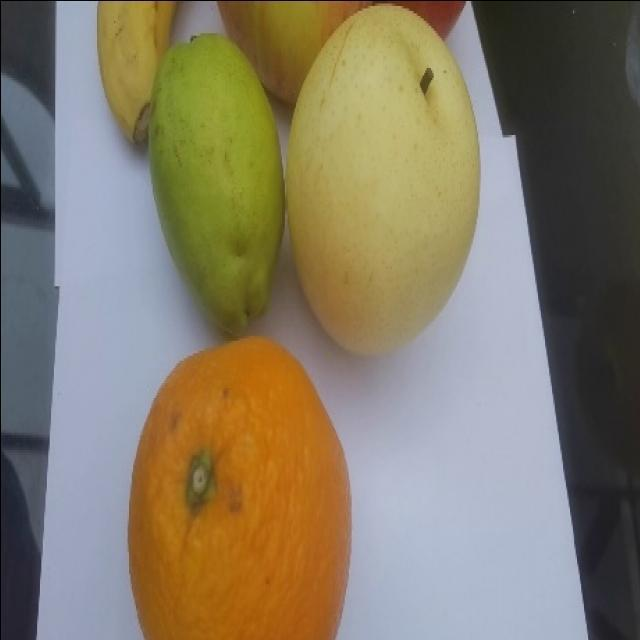Apple: (214, 0, 474, 116)
Banana: (91, 3, 186, 153)
Orange: (127, 331, 355, 640)
